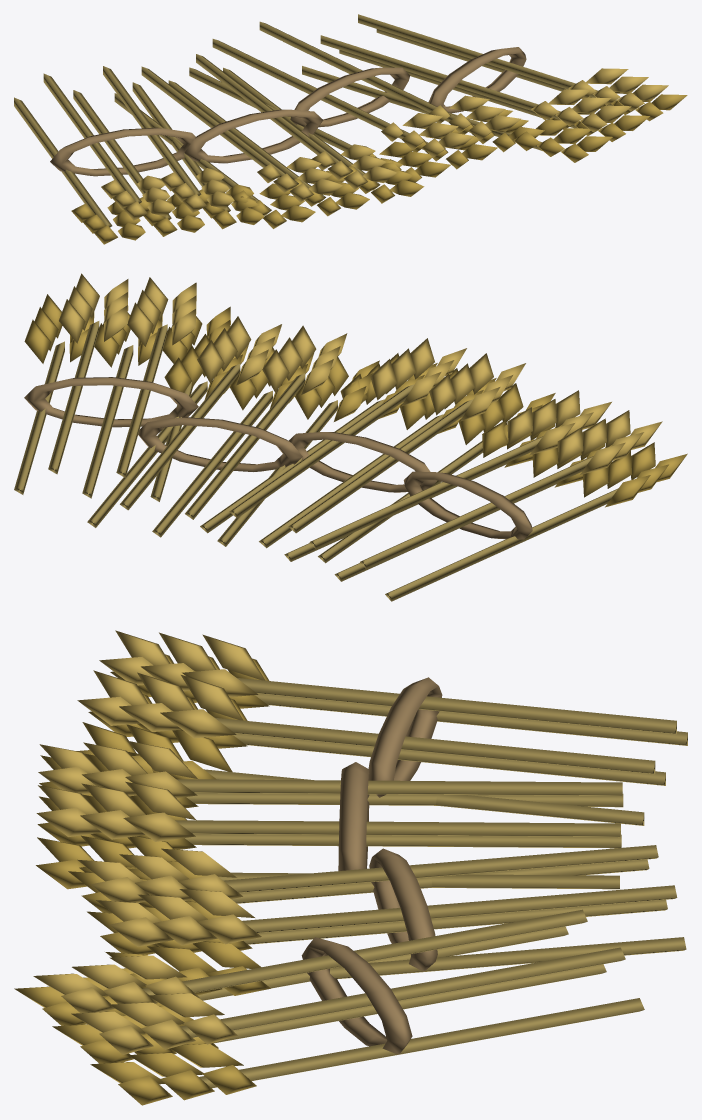
File: pile-rice-4.gltf
3 renders of one model, top to bottom at view 1: azimuth 30°, elevation 25°; view 2: azimuth 150°, elevation 25°; view 3: azimuth 270°, elevation 25°, orthographic. The views are drawn at different scales.
Parts seen in each view (by area): view 1: pile-rice-4; view 2: pile-rice-4; view 3: pile-rice-4.
Part boxes in pixels (x1,y1,x2,y2): pile-rice-4: (14, 14, 687, 244); pile-rice-4: (14, 273, 687, 601); pile-rice-4: (14, 630, 687, 1105).
Bounding box in the file's own units: 0.7921 × 0.0664 × 0.5089.
